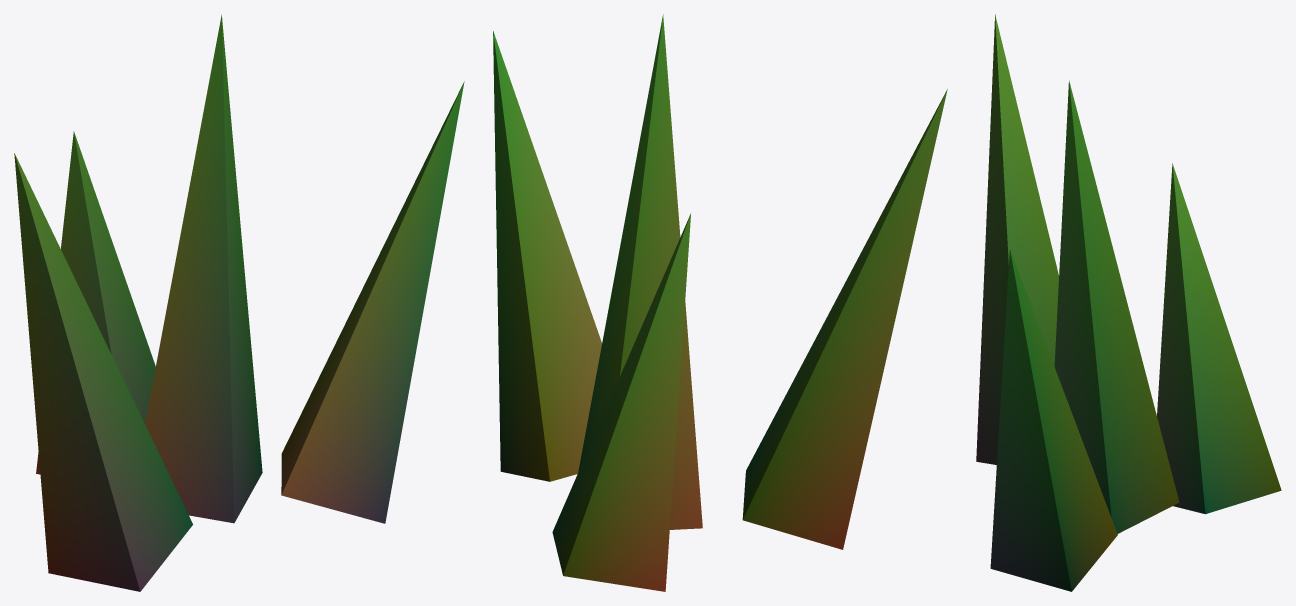
File: GrassTuft.fbx
3 renders of one model, left to right at view 1: azimuth 30°, elevation 25°; view 2: azimuth 150°, elevation 25°; view 3: azimuth 270°, elevation 25°, orthographic. The views are drawn at different scales.
Visible parts, largest first — view 1: GrassTuft; view 2: GrassTuft; view 3: GrassTuft.
Boxes of the visible parts, <box> form: GrassTuft: <box>14,14,464,591</box>; GrassTuft: <box>493,14,947,591</box>; GrassTuft: <box>976,14,1281,591</box>.
Size of the model in its own units: 0.3113 by 0.3314 by 0.2068.
